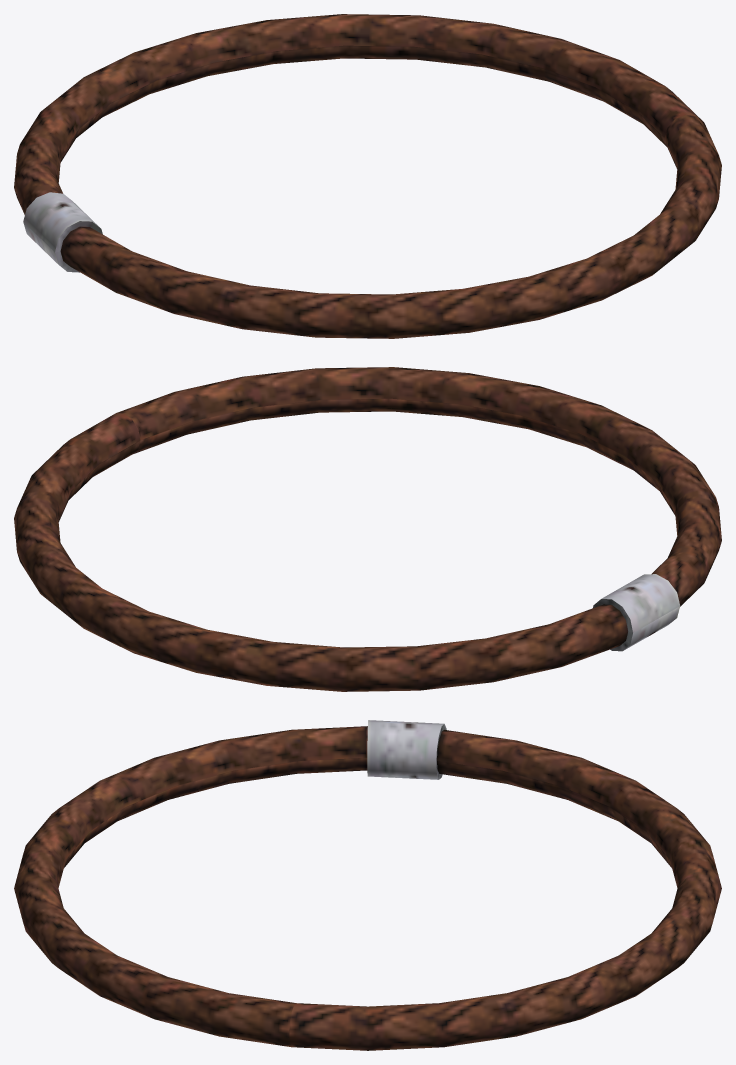
File: hairband.dae
The picture shows the model from 3 angles, top to bottom: view 1: azimuth 30°, elevation 25°; view 2: azimuth 150°, elevation 25°; view 3: azimuth 270°, elevation 25°; orthographic projection.
Parts seen in each view (by area): view 1: hairband; view 2: hairband; view 3: hairband.
Part boxes in pixels (bbox=[...]): hairband: bbox=[14, 14, 721, 338]; hairband: bbox=[14, 367, 721, 691]; hairband: bbox=[14, 720, 721, 1050].
Size of the model in its own units: 12.71 by 1.01 by 12.6.
